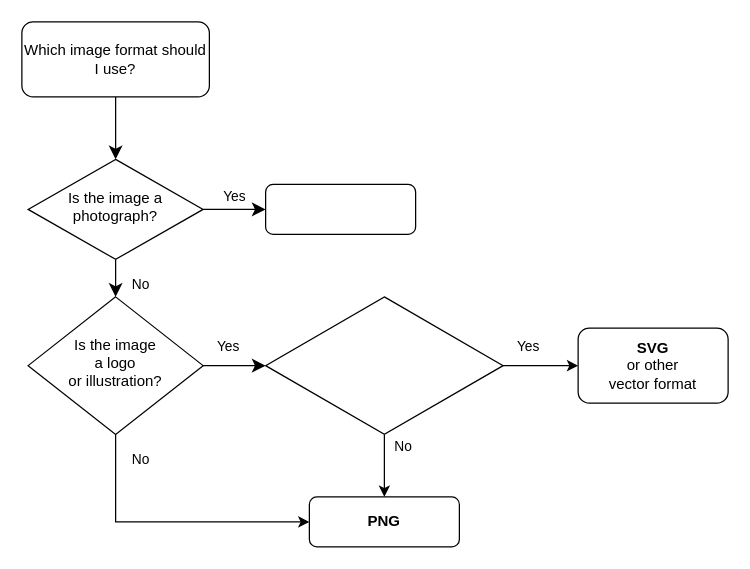
This 750x569 diagram has some shape labels left out. The shapes that lost their labels are listed below. From the top down, each one's box as (x1, y1, x2, y2) in pixels, then its label:
(264, 183, 416, 234): JPG
(264, 296, 503, 434): Is the image the original source of the illustration?
